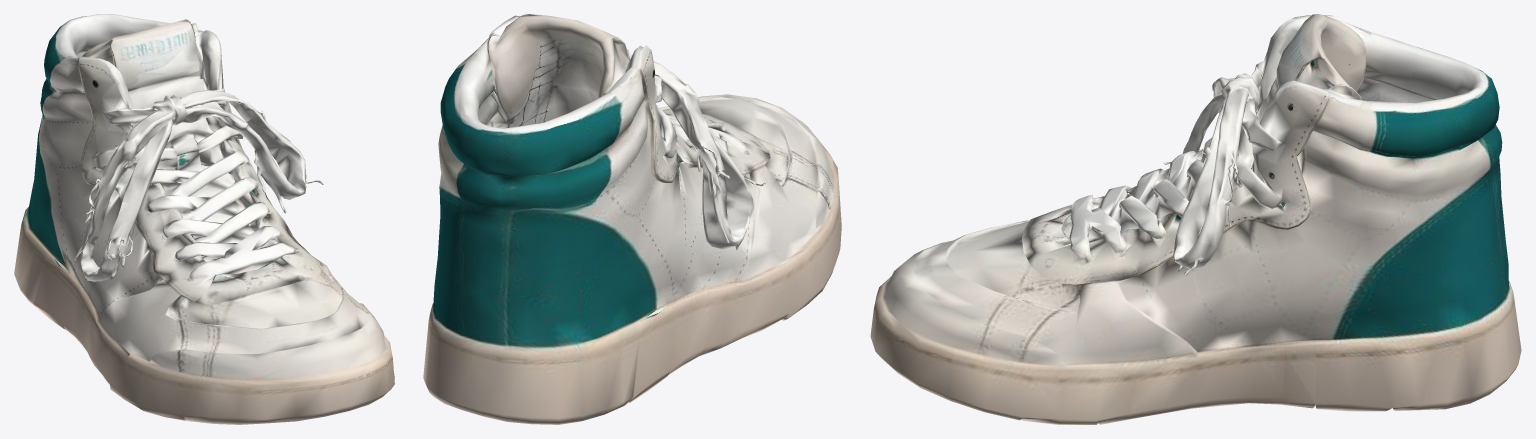
The model's file is hightops-right.glb.
3 renders of one model, left to right at view 1: azimuth 30°, elevation 25°; view 2: azimuth 150°, elevation 25°; view 3: azimuth 270°, elevation 25°, orthographic. The views are drawn at different scales.
Visible parts, largest first — view 1: hightops~plain; view 2: hightops~plain; view 3: hightops~plain.
Boxes of the visible parts, left/top/right/bottom form: hightops~plain: left=14, top=14, right=394, bottom=424; hightops~plain: left=423, top=14, right=841, bottom=424; hightops~plain: left=870, top=14, right=1521, bottom=424.
Bounding box in the file's own units: 0.22 × 0.2562 × 0.44.
Materials: 1 (1 with a texture image).
